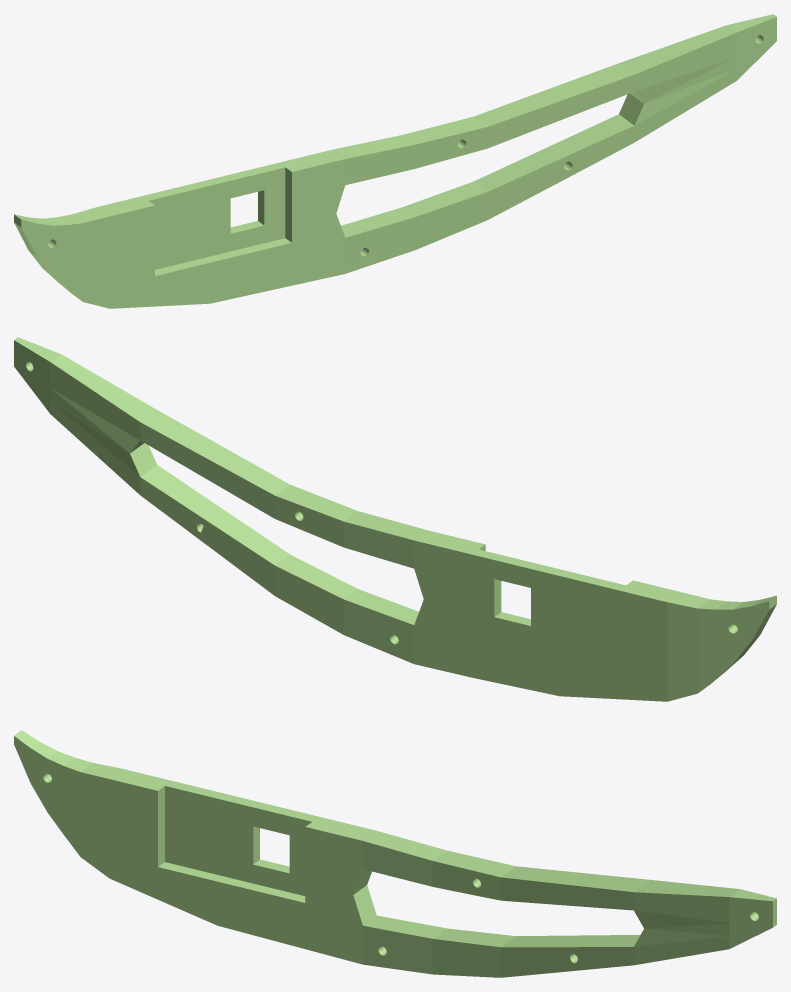
Rendered from Piece 10.obj.
3 renders of one model, top to bottom at view 1: azimuth 30°, elevation 25°; view 2: azimuth 150°, elevation 25°; view 3: azimuth 330°, elevation 25°, orthographic. The views are drawn at different scales.
Visible parts, largest first — view 1: Object.1; view 2: Object.1; view 3: Object.1.
Boxes of the visible parts, x1,y1,x2,y2 form: Object.1: (14, 14, 776, 308); Object.1: (14, 337, 776, 701); Object.1: (14, 730, 776, 977).
Size of the model in its own units: 216 by 49.92 by 19.63.
